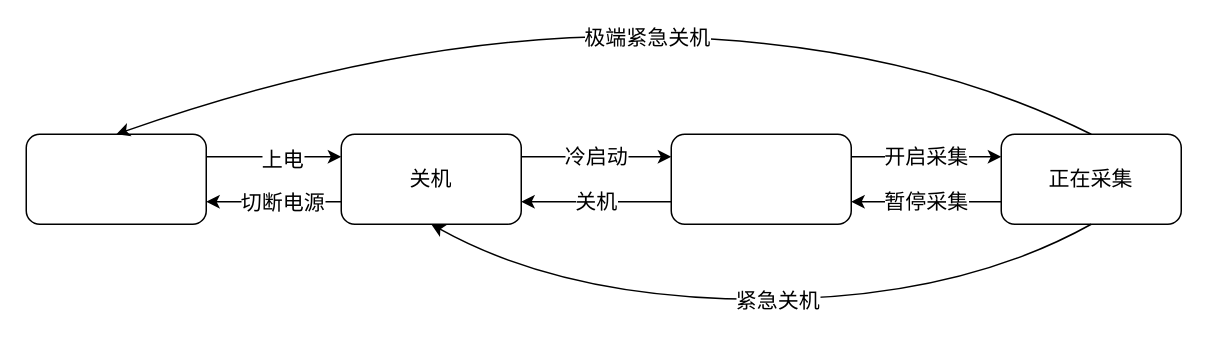
Image size: 1208x339. Some labels were removed from this diagram. Each missing label, with the centre of its shape:
"就绪" belongs at pixel 760 178.
"断电" belongs at pixel 115 178.
